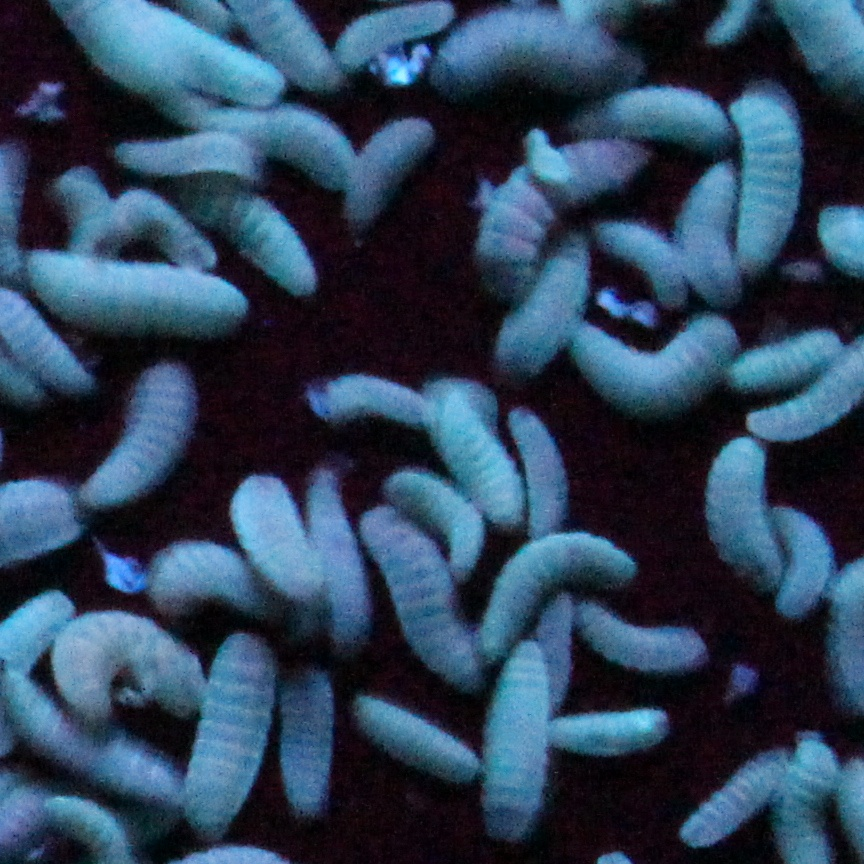larve: (354, 504, 481, 681), (24, 249, 254, 341), (473, 534, 636, 658), (171, 182, 328, 291), (573, 310, 738, 411), (79, 360, 193, 506), (445, 6, 642, 89), (192, 636, 273, 834), (473, 639, 552, 841), (728, 73, 802, 275), (52, 608, 196, 708), (493, 237, 590, 370), (707, 436, 783, 589), (233, 475, 321, 604), (348, 696, 483, 780), (678, 748, 790, 846), (576, 87, 740, 149), (507, 401, 578, 544), (348, 117, 435, 230), (578, 604, 709, 672), (109, 132, 267, 186), (593, 222, 685, 313), (685, 165, 742, 303), (309, 375, 443, 432), (283, 665, 333, 808), (771, 504, 833, 617), (338, 1, 454, 61), (550, 706, 671, 754), (735, 329, 840, 384)
